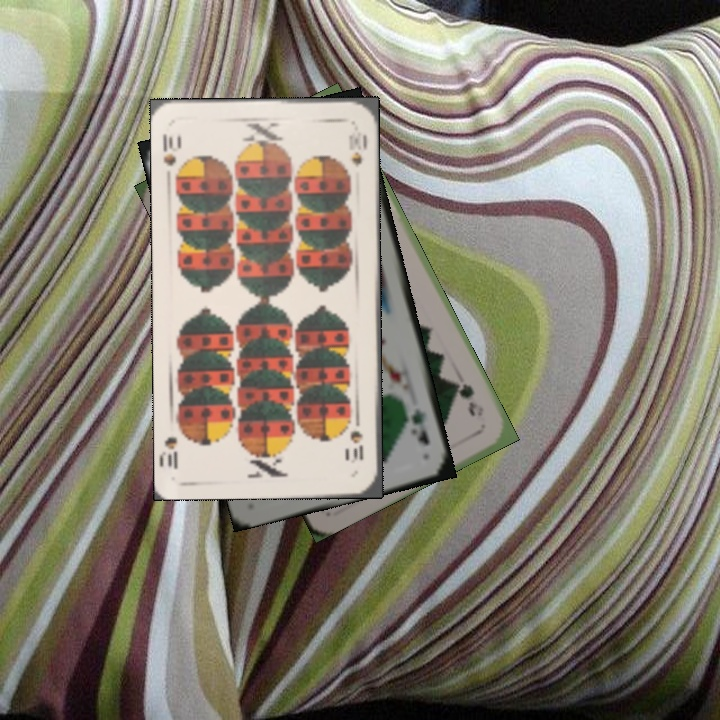G9: (450, 377, 487, 420)
GK: (406, 404, 432, 447)
S10: (346, 412, 366, 465), (158, 130, 183, 168)
